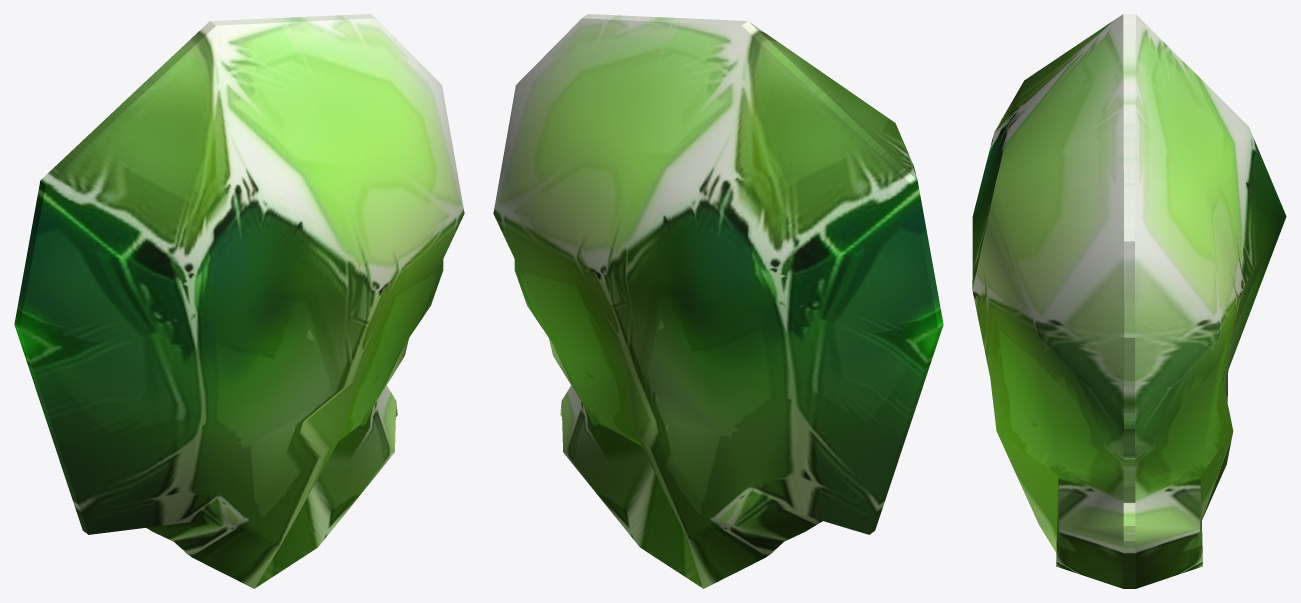
The model's file is gme005.FBX.
3 renders of one model, left to right at view 1: azimuth 30°, elevation 25°; view 2: azimuth 150°, elevation 25°; view 3: azimuth 270°, elevation 25°, orthographic.
Visible parts, largest first — view 1: gme005; view 2: gme005; view 3: gme005.
Boxes of the visible parts, x1=… form: gme005: x1=14, y1=14, x2=464, y2=588; gme005: x1=493, y1=14, x2=943, y2=588; gme005: x1=972, y1=14, x2=1286, y2=588.
Bounding box in the file's own units: 235 × 281 × 145.
Materials: 1 (1 with a texture image).
